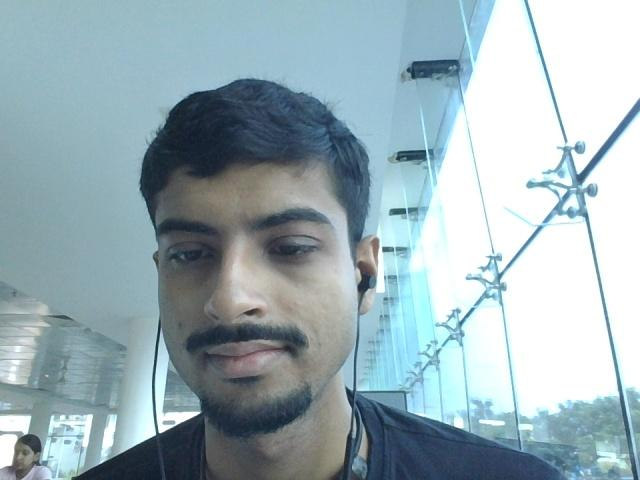confident: (135, 89, 427, 439)
